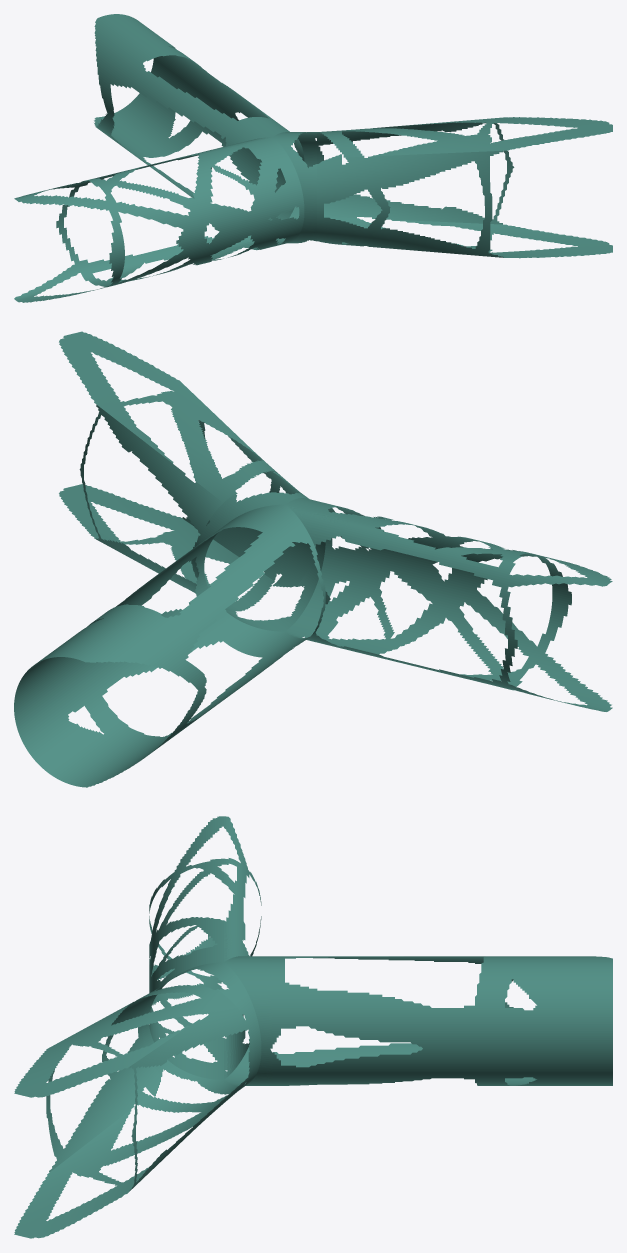
File: tee-processed.glb
The picture shows the model from 3 angles, top to bottom: view 1: azimuth 30°, elevation 25°; view 2: azimuth 150°, elevation 25°; view 3: azimuth 270°, elevation 25°; orthographic projection. The views are drawn at different scales.
Parts seen in each view (by area): view 1: world; view 2: world; view 3: world.
Part boxes in pixels (box(x1,y1,x2,y2)): world: box(14, 14, 612, 302); world: box(14, 331, 612, 787); world: box(14, 816, 612, 1238).
Bounding box in the file's own units: 80.21 × 18 × 69.3.
